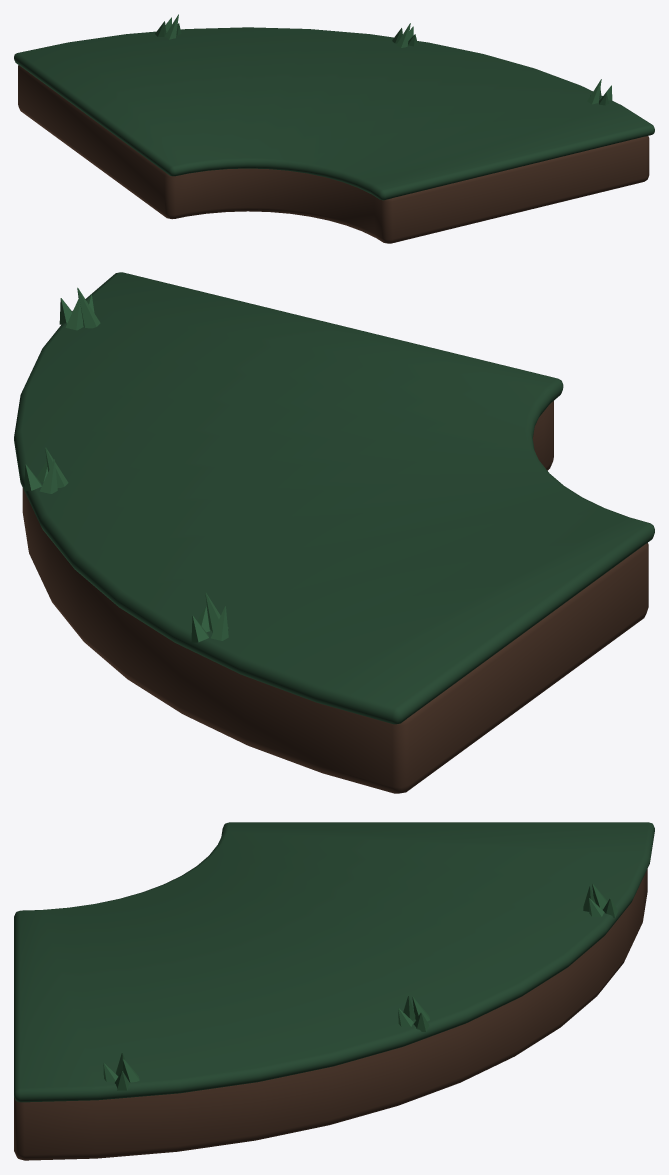
Rendered from SueloCurva.fbx.
3 renders of one model, top to bottom at view 1: azimuth 30°, elevation 25°; view 2: azimuth 150°, elevation 25°; view 3: azimuth 270°, elevation 25°, orthographic. The views are drawn at different scales.
Visible parts, largest first — view 1: SueloCurva_Pasto, SueloCurva_Tierra, SueloCurva_Matas; view 2: SueloCurva_Pasto, SueloCurva_Tierra, SueloCurva_Matas; view 3: SueloCurva_Pasto, SueloCurva_Tierra, SueloCurva_Matas.
Boxes of the visible parts, box(x1,y1,x2,y2) form: SueloCurva_Pasto: box(14, 27, 654, 200); SueloCurva_Tierra: box(18, 65, 649, 243); SueloCurva_Matas: box(155, 14, 612, 105); SueloCurva_Pasto: box(14, 272, 654, 724); SueloCurva_Tierra: box(22, 401, 648, 793); SueloCurva_Matas: box(24, 287, 228, 642); SueloCurva_Pasto: box(14, 822, 654, 1102); SueloCurva_Tierra: box(14, 869, 647, 1160); SueloCurva_Matas: box(103, 883, 618, 1090).
Size of the model in its own units: 18.09 by 3.28 by 18.09.
